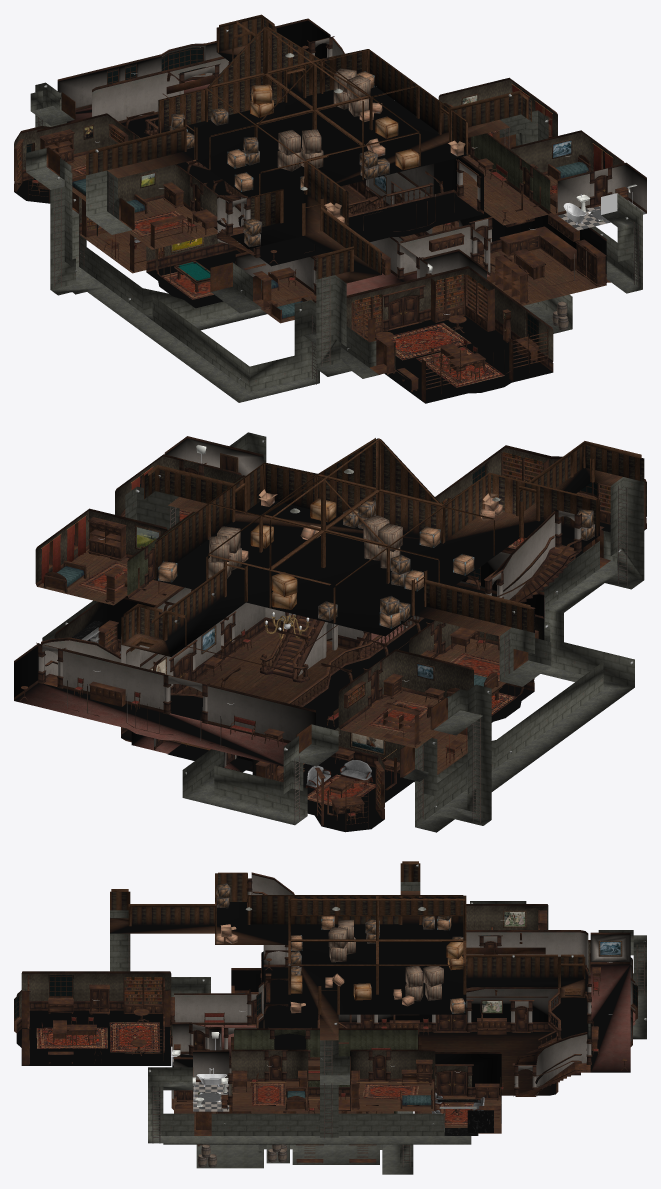
File: Clue.glb
3 views of the same model, one above another, from view 1: azimuth 30°, elevation 25°; view 2: azimuth 150°, elevation 25°; view 3: azimuth 270°, elevation 25° (orthographic). The views are drawn at different scales.
Visible parts, largest first — view 1: Main, Wood, Props, Picture.006; view 2: Main, Wood, Props; view 3: Main, Wood, Props, Closet.
Boxes of the visible parts, left/top/right/bottom form: Main: left=14, top=14, right=646, bottom=403; Wood: left=14, top=18, right=646, bottom=402; Props: left=17, top=29, right=640, bottom=387; Picture.006: left=210, top=262, right=232, bottom=291; Main: left=14, top=432, right=646, bottom=832; Wood: left=14, top=436, right=646, bottom=831; Props: left=41, top=440, right=633, bottom=822; Main: left=16, top=861, right=646, bottom=1174; Wood: left=14, top=872, right=637, bottom=1163; Props: left=14, top=864, right=646, bottom=1167; Closet: left=90, top=989, right=108, bottom=1012.
Size of the model in its own units: 36.87 by 19.72 by 52.62.
18 materials, 18 textured.
